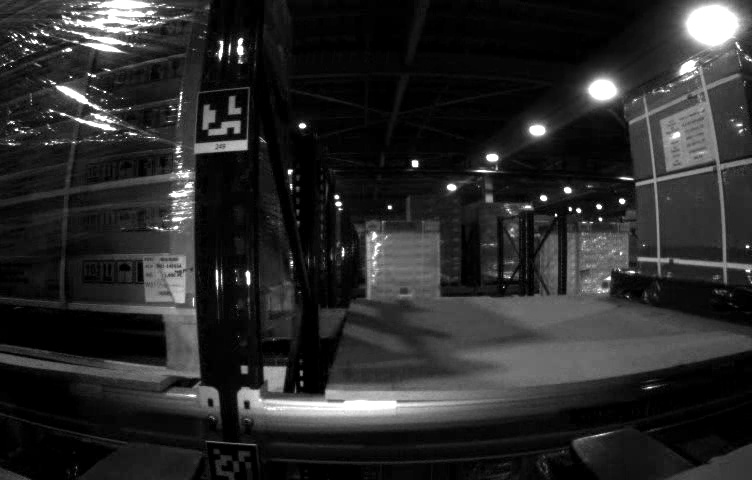True Barcode: (142, 255, 188, 304)
